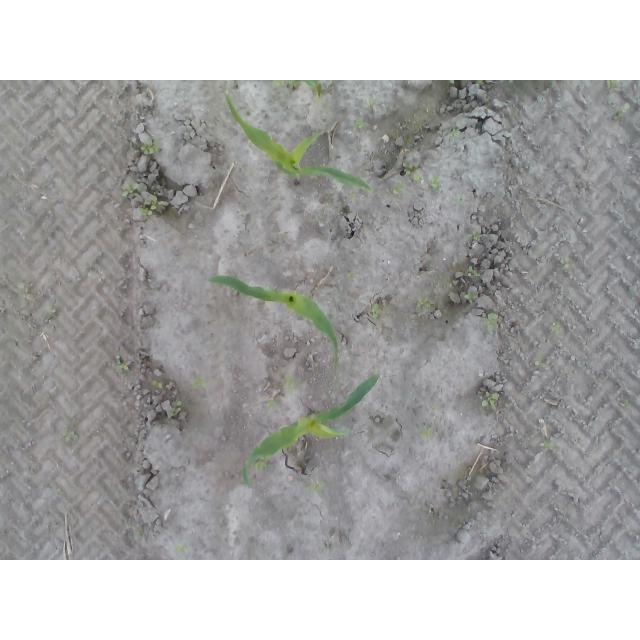Maize: (239, 374, 382, 486), (222, 92, 374, 195), (206, 276, 343, 369)
Weeds: (403, 160, 425, 184), (480, 391, 500, 411), (120, 181, 140, 199), (140, 199, 157, 218), (140, 141, 161, 155), (482, 311, 498, 329), (170, 399, 183, 417), (62, 430, 79, 443), (311, 481, 326, 495), (192, 377, 209, 389), (416, 297, 431, 310), (255, 458, 270, 471), (467, 266, 482, 279), (464, 292, 478, 305), (371, 303, 382, 319), (394, 180, 406, 192), (431, 177, 442, 190), (606, 80, 623, 88), (550, 322, 561, 334), (466, 232, 480, 241), (114, 360, 129, 368), (150, 379, 162, 389), (355, 118, 365, 128), (451, 129, 459, 134)
